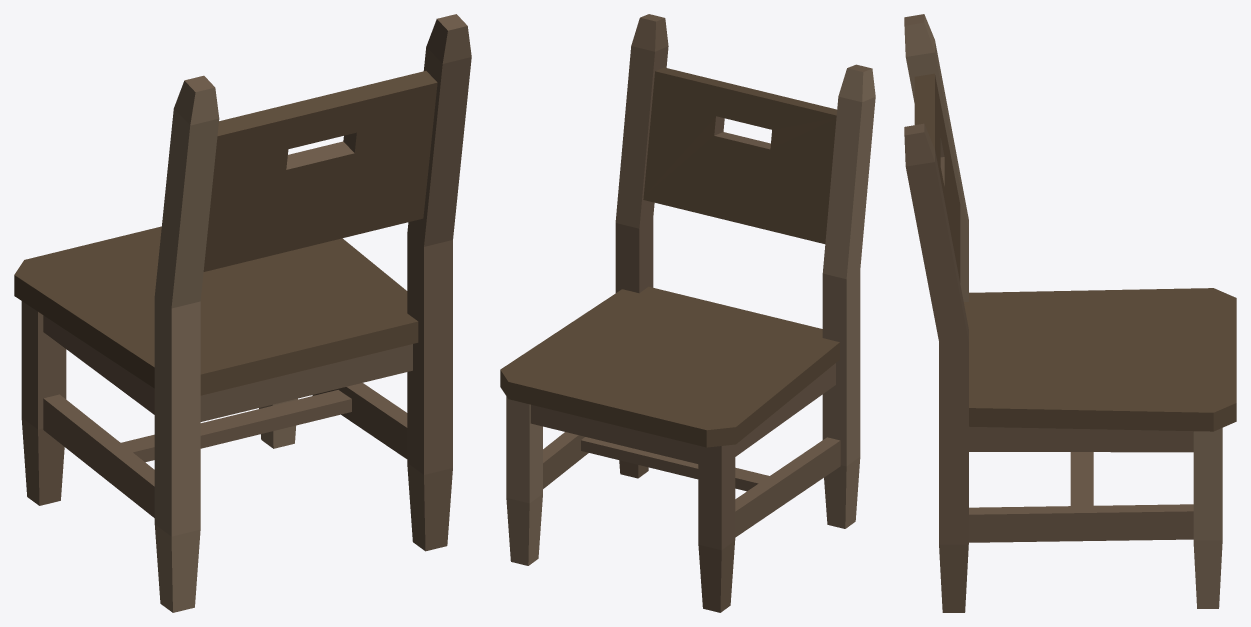
File: EA03_Prop_Stool_02a.glb
3 renders of one model, left to right at view 1: azimuth 30°, elevation 25°; view 2: azimuth 150°, elevation 25°; view 3: azimuth 270°, elevation 25°, orthographic. The views are drawn at different scales.
Parts seen in each view (by area): view 1: EA03_Prop_Stool_02a; view 2: EA03_Prop_Stool_02a; view 3: EA03_Prop_Stool_02a.
Boxes of the visible parts, box(x1,y1,x2,y2) form: EA03_Prop_Stool_02a: box(14, 14, 471, 612); EA03_Prop_Stool_02a: box(500, 14, 875, 612); EA03_Prop_Stool_02a: box(904, 14, 1236, 612).
Bounding box in the file's own units: 0.6026 × 1.08 × 0.678.
Materials: 1 (1 with a texture image).
